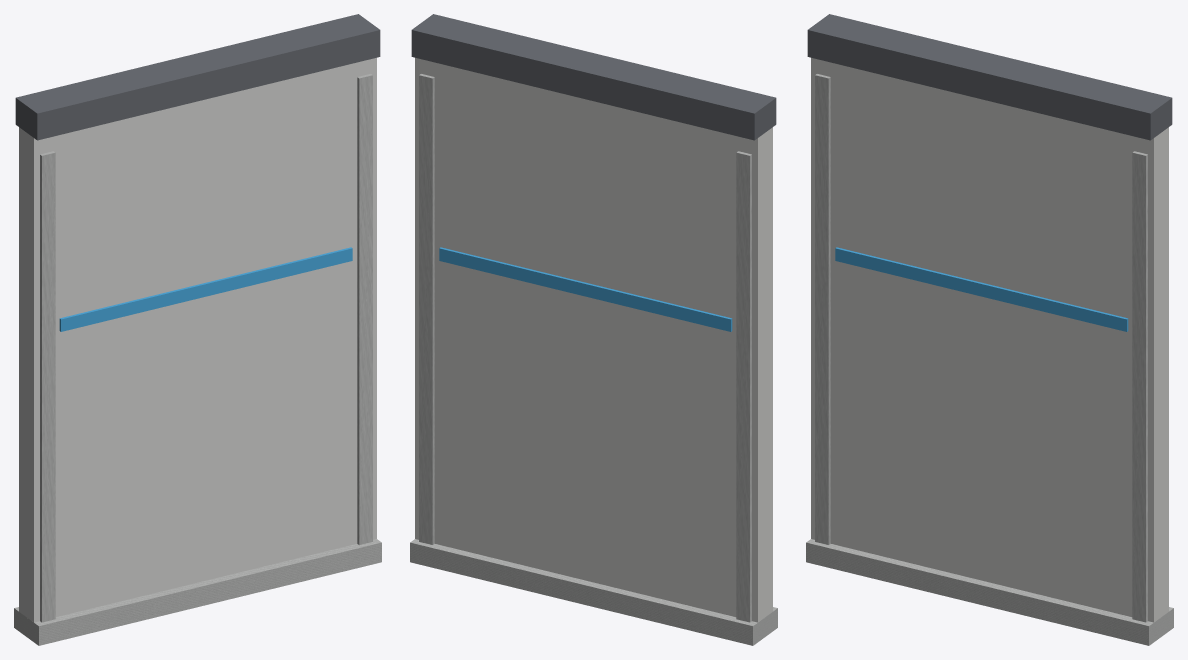
The model's file is velodrome-and-track-cycling-arena-wall-panel-run-a3ef1720__38007.glb.
3 views of the same model, side by side, from view 1: azimuth 30°, elevation 25°; view 2: azimuth 150°, elevation 25°; view 3: azimuth 330°, elevation 25° (orthographic).
Parts seen in each view (by area): view 1: arena-wall-panel-run-chalk, arena-wall-panel-run-apron, arena-wall-panel-run-charcoal, arena-wall-panel-run-azure; view 2: arena-wall-panel-run-chalk, arena-wall-panel-run-apron, arena-wall-panel-run-charcoal, arena-wall-panel-run-azure; view 3: arena-wall-panel-run-chalk, arena-wall-panel-run-apron, arena-wall-panel-run-charcoal, arena-wall-panel-run-azure.
Boxes of the visible parts, x1,y1,x2,y2 form: arena-wall-panel-run-chalk: (19, 57, 376, 622); arena-wall-panel-run-apron: (14, 74, 381, 645); arena-wall-panel-run-charcoal: (15, 14, 380, 140); arena-wall-panel-run-azure: (59, 247, 352, 331); arena-wall-panel-run-chalk: (415, 57, 772, 622); arena-wall-panel-run-apron: (410, 74, 777, 645); arena-wall-panel-run-charcoal: (411, 14, 776, 140); arena-wall-panel-run-azure: (439, 247, 732, 331); arena-wall-panel-run-chalk: (811, 57, 1168, 622); arena-wall-panel-run-apron: (806, 74, 1173, 645); arena-wall-panel-run-charcoal: (807, 14, 1172, 140); arena-wall-panel-run-azure: (835, 247, 1128, 331).
Bounding box in the file's own units: 4 × 5.92 × 0.5002.
4 materials, 1 textured.
